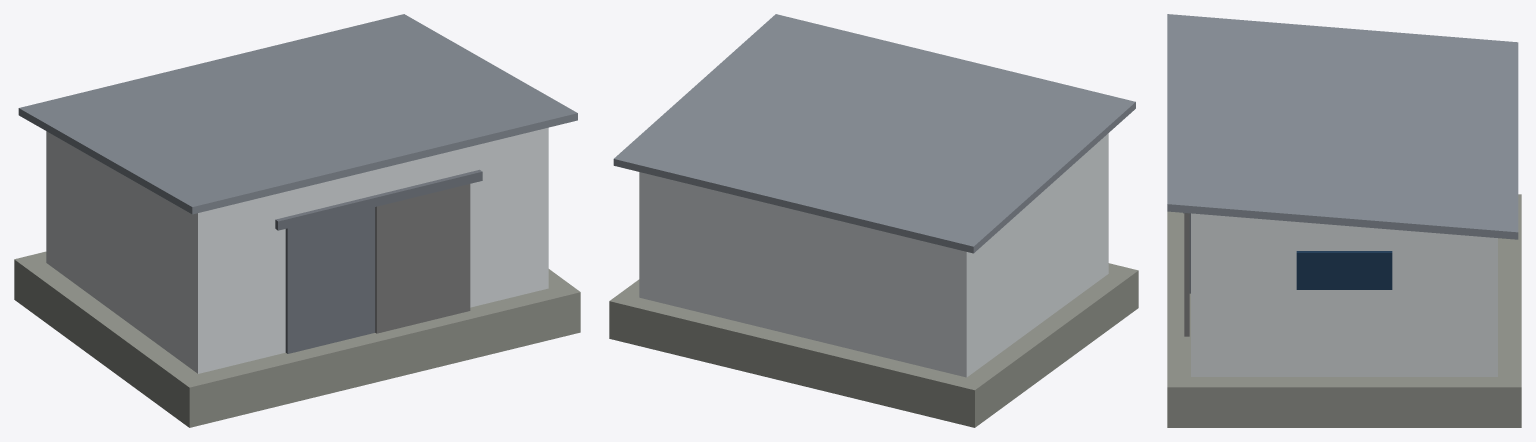
Rendered from mashup-storage-top-prebuilt.fbx.
3 renders of one model, left to right at view 1: azimuth 30°, elevation 25°; view 2: azimuth 150°, elevation 25°; view 3: azimuth 270°, elevation 25°, orthographic. The views are drawn at different scales.
Parts seen in each view (by area): view 1: a200.Storage; view 2: a200.Storage; view 3: a200.Storage.
Boxes of the visible parts, x1,y1,x2,y2 form: a200.Storage: [14, 14, 580, 427]; a200.Storage: [609, 14, 1138, 427]; a200.Storage: [1167, 14, 1521, 427].
Bounding box in the file's own units: 6.7 × 3.6 × 5.2.
